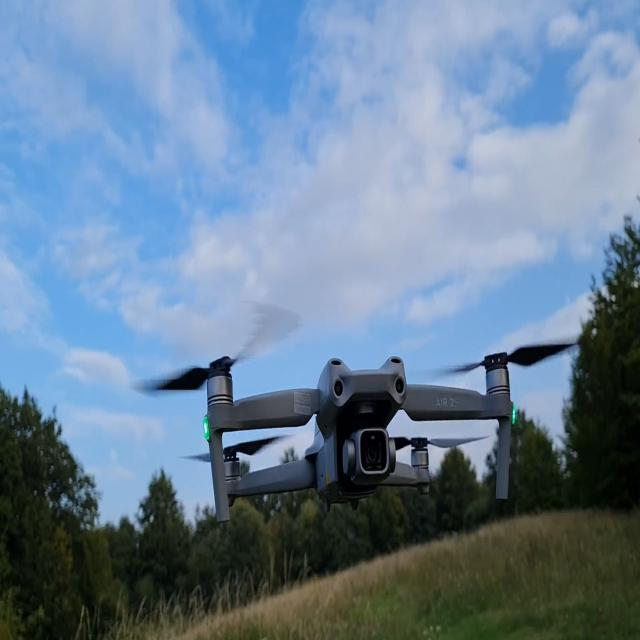drone: (129, 302, 580, 524)
